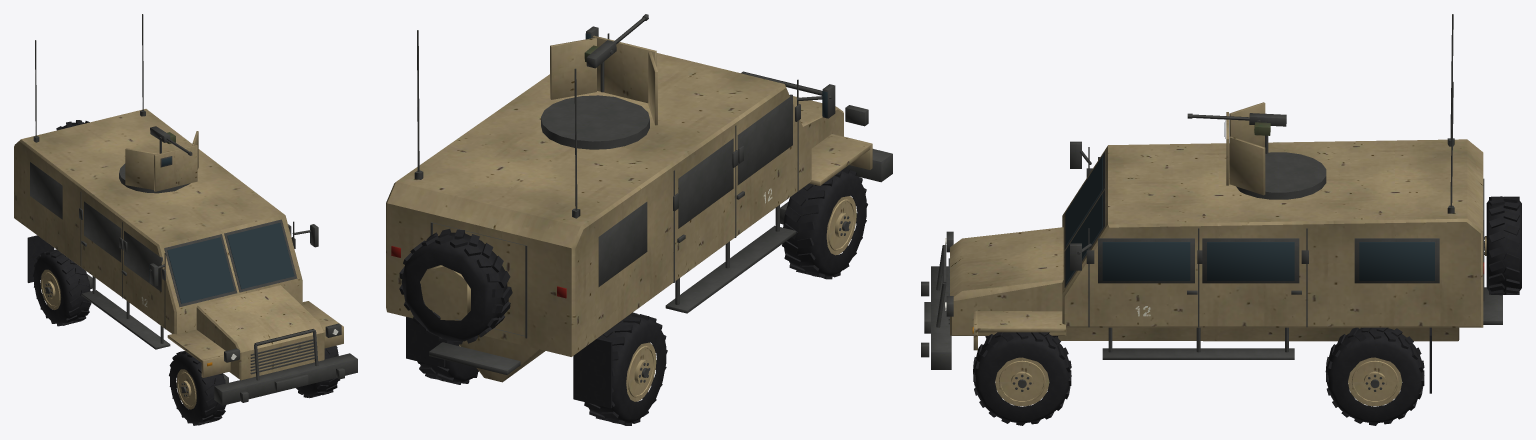
Rendered from mrap-4x4_card.glb.
3 views of the same model, side by side, from view 1: azimuth 30°, elevation 25°; view 2: azimuth 150°, elevation 25°; view 3: azimuth 270°, elevation 25° (orthographic). The views are drawn at different scales.
Visible parts, largest first — view 1: Hull, Wheel_BR, Turret, Wheel_FR, Wheel_FL, Gun; view 2: Hull, Turret, Wheel_FR, Wheel_BR, Wheel_BL, Gun; view 3: Hull, Wheel_BL, Wheel_FL, Turret, Gun.
Part boxes in pixels (x1,y1,x2,y2): Hull: (14,14,357,405); Wheel_BR: (33,249,91,326); Turret: (119,131,198,193); Wheel_FR: (169,351,226,425); Wheel_FL: (296,346,339,398); Gun: (150,126,192,155); Hull: (386,26,892,408); Turret: (541,35,657,149); Wheel_FR: (782,168,867,279); Wheel_BR: (584,312,667,425); Wheel_BL: (417,340,478,384); Gun: (584,14,648,92); Hull: (921,14,1521,393); Wheel_BL: (1325,327,1424,425); Wheel_FL: (973,332,1071,425); Turret: (1224,102,1326,199); Gun: (1187,113,1286,153).
Size of the model in its own units: 3.12 by 4.62 by 7.49.
Materials: 9 (5 with a texture image).
